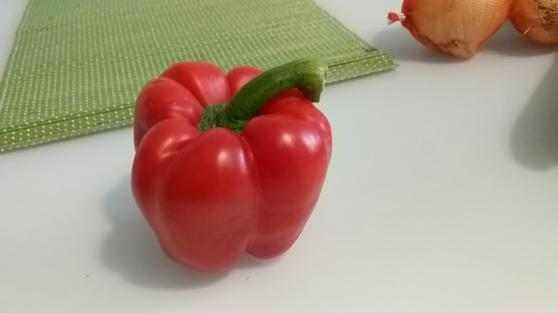pepper: (128, 56, 332, 272)
